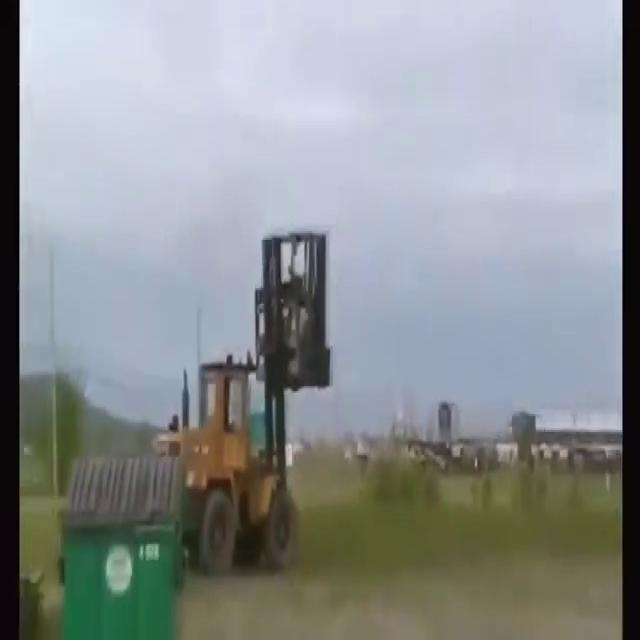forklift: (148, 231, 335, 581)
